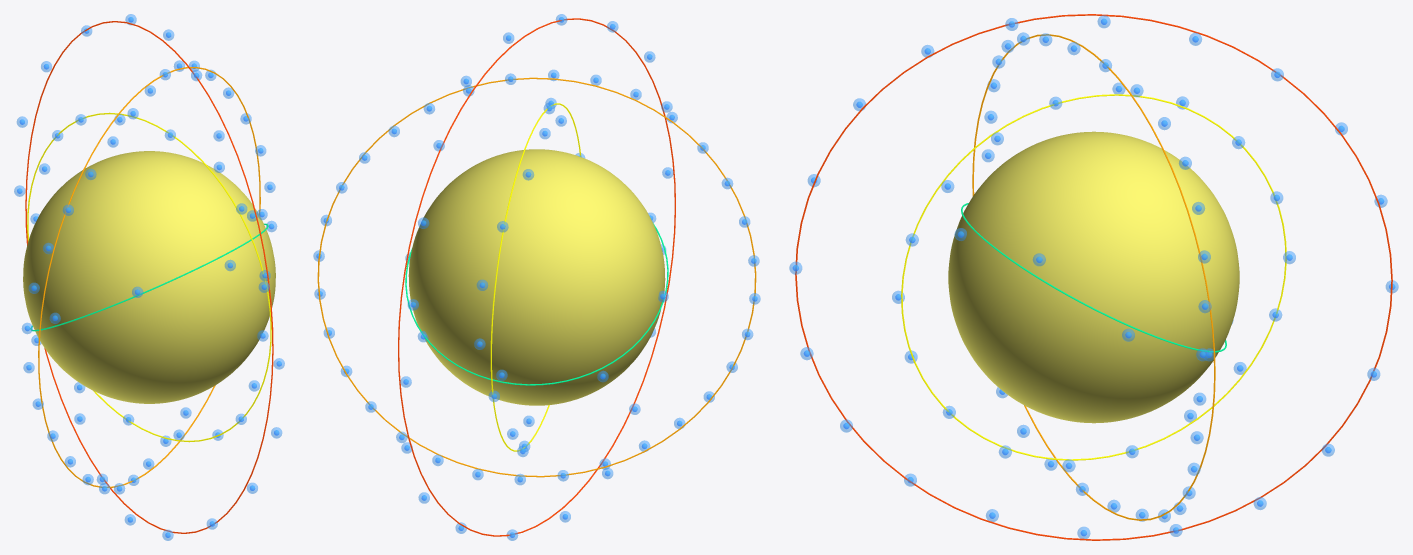
3 views of the same model, side by side, from view 1: azimuth 30°, elevation 25°; view 2: azimuth 150°, elevation 25°; view 3: azimuth 270°, elevation 25° (orthographic). The views are drawn at different scales.
Visible parts, largest first — view 1: Hg, object 126, object 61, object 24, object 7; view 2: Hg, object 126, object 61, object 24, object 7; view 3: Hg, object 126, object 24, object 61, object 7.
Boxes of the visible parts, bbox=[...] form: Hg: bbox=[23, 151, 275, 403]; object 126: bbox=[25, 21, 273, 533]; object 61: bbox=[38, 66, 260, 487]; object 24: bbox=[27, 112, 271, 442]; object 7: bbox=[30, 223, 268, 331]; Hg: bbox=[408, 149, 665, 405]; object 126: bbox=[398, 18, 675, 536]; object 61: bbox=[317, 77, 756, 477]; object 24: bbox=[490, 103, 581, 451]; object 7: bbox=[405, 223, 668, 385]; Hg: bbox=[948, 131, 1239, 423]; object 126: bbox=[795, 14, 1392, 540]; object 24: bbox=[901, 94, 1286, 460]; object 61: bbox=[972, 34, 1215, 520]; object 7: bbox=[961, 203, 1226, 352].
Bounding box in the file's own units: 5.56 × 7.32 × 7.36.
